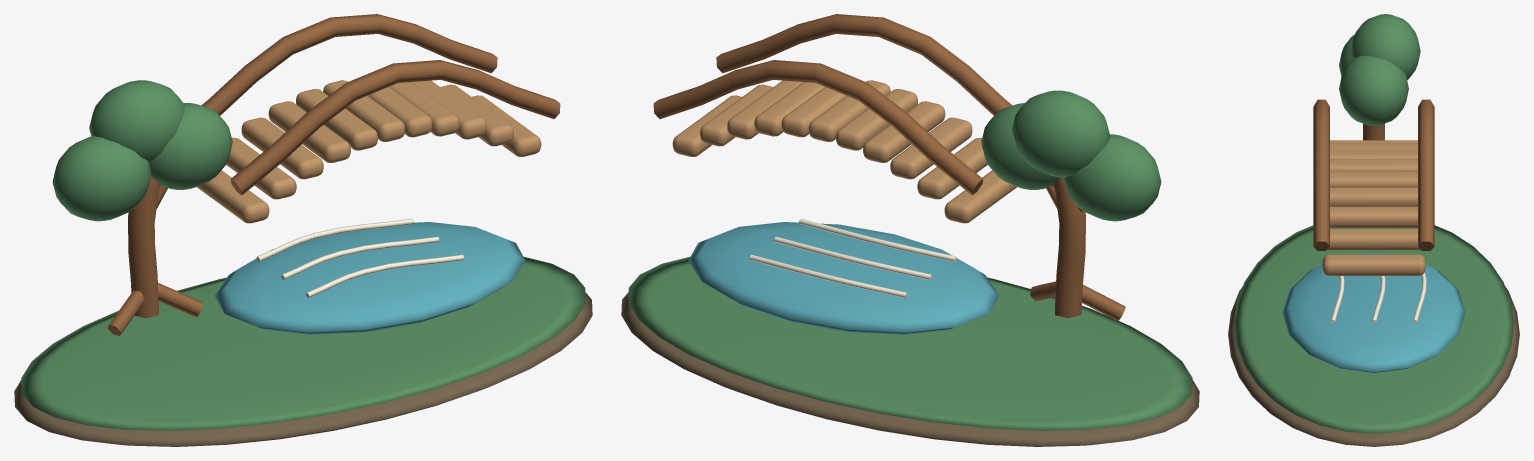
File: tree-bridge.glb
3 views of the same model, side by side, from view 1: azimuth 30°, elevation 25°; view 2: azimuth 150°, elevation 25°; view 3: azimuth 270°, elevation 25° (orthographic). The views are drawn at different scales.
Visible parts, largest first — view 1: tree-bridge_surface_01, tree-bridge_surface_04, tree-bridge_surface_02, tree-bridge_surface_03, tree-bridge_surface_00, tree-bridge_surface_05; view 2: tree-bridge_surface_01, tree-bridge_surface_04, tree-bridge_surface_02, tree-bridge_surface_03, tree-bridge_surface_00, tree-bridge_surface_05; view 3: tree-bridge_surface_01, tree-bridge_surface_04, tree-bridge_surface_03, tree-bridge_surface_02, tree-bridge_surface_00, tree-bridge_surface_05.
Boxes of the visible parts, box(x1,y1,x2,y2) form: tree-bridge_surface_01: box(21, 80, 585, 430); tree-bridge_surface_04: box(215, 222, 525, 334); tree-bridge_surface_02: box(107, 14, 560, 335); tree-bridge_surface_03: box(197, 80, 541, 223); tree-bridge_surface_00: box(14, 292, 592, 446); tree-bridge_surface_05: box(256, 218, 463, 297); tree-bridge_surface_01: box(628, 90, 1192, 430); tree-bridge_surface_04: box(688, 222, 998, 334); tree-bridge_surface_02: box(653, 14, 1125, 320); tree-bridge_surface_03: box(672, 80, 1016, 223); tree-bridge_surface_00: box(621, 292, 1199, 446); tree-bridge_surface_05: box(749, 218, 956, 298); tree-bridge_surface_01: box(1234, 14, 1513, 433); tree-bridge_surface_04: box(1282, 252, 1465, 373); tree-bridge_surface_03: box(1322, 140, 1425, 275); tree-bridge_surface_02: box(1313, 99, 1434, 250); tree-bridge_surface_00: box(1228, 286, 1519, 446); tree-bridge_surface_05: box(1330, 272, 1426, 323).
Bounding box in the file's own units: 4.56 × 2.51 × 2.5.
